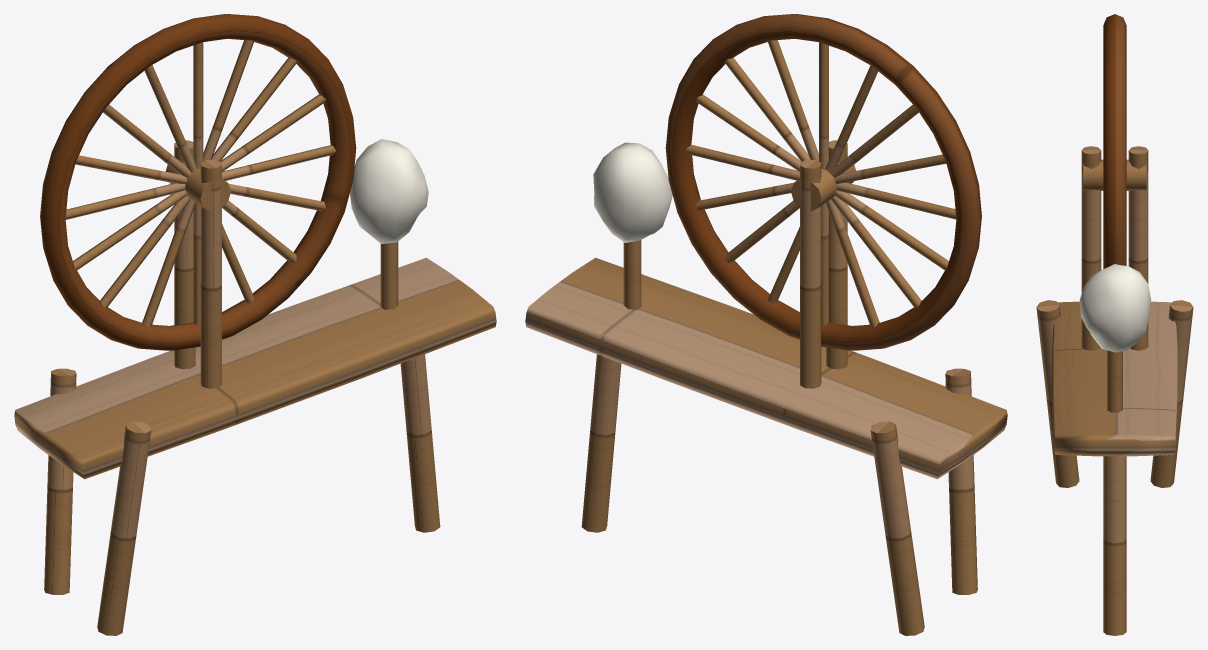
File: station_spinning_wheel.glb
3 views of the same model, side by side, from view 1: azimuth 30°, elevation 25°; view 2: azimuth 150°, elevation 25°; view 3: azimuth 270°, elevation 25° (orthographic). The views are drawn at different scales.
Parts seen in each view (by area): view 1: station_spinning_wheel_wood, station_spinning_wheel; view 2: station_spinning_wheel_wood, station_spinning_wheel; view 3: station_spinning_wheel_wood, station_spinning_wheel.
Part boxes in pixels (x1,y1,x2,y2): station_spinning_wheel_wood: (14, 14, 496, 635); station_spinning_wheel: (350, 139, 428, 243); station_spinning_wheel_wood: (525, 14, 1007, 635); station_spinning_wheel: (593, 142, 672, 242); station_spinning_wheel_wood: (1036, 14, 1193, 635); station_spinning_wheel: (1079, 264, 1151, 352).
Size of the model in its own units: 1.11 by 1.41 by 0.399.
2 materials, 1 textured.
